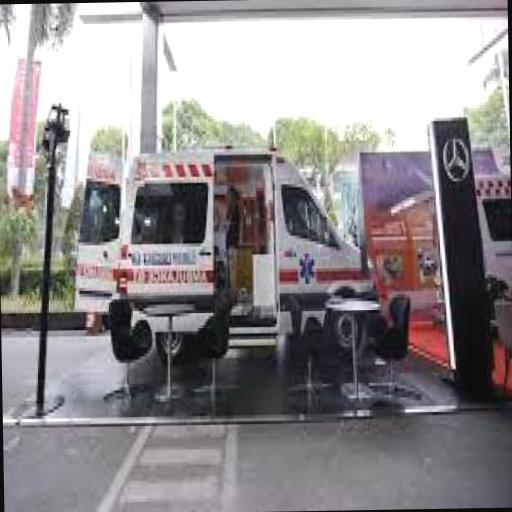Police car: (74, 143, 378, 370)
